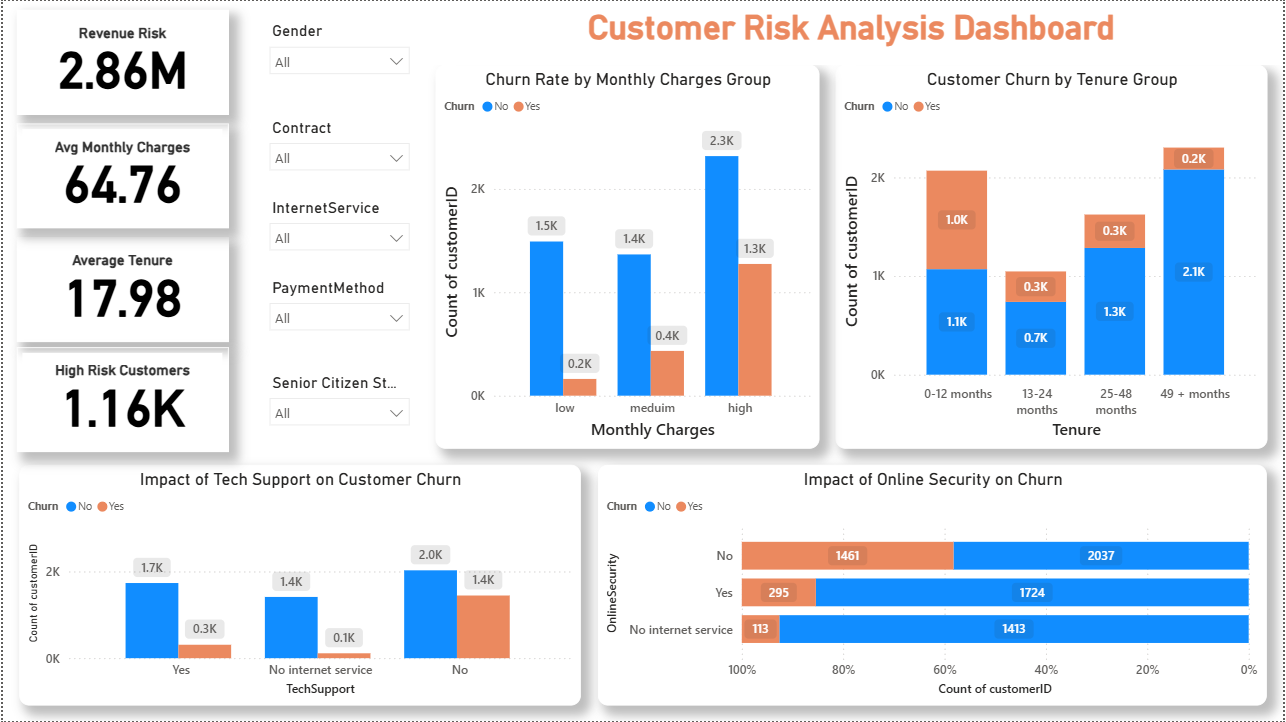

Layout of this report page (visuals, bound fields, positions):
{"tool":"powerbi","page":{"name":"customer risk analysis","canvas":[1280,720],"ordinal":1},"visuals":[{"type":"columnChart","title":"Customer Churn by Tenure Group","fields":{"Category":["Customer-Churn-data.tenure group"],"Series":["Customer-Churn-data.Churn"],"Y":["CountNonNull(Customer-Churn-data.customerID)"]},"box":[832,64,432,384],"z":0},{"type":"clusteredColumnChart","title":"Churn Rate by Monthly Charges Group","fields":{"Category":["Customer-Churn-data.monthly charge group"],"Series":["Customer-Churn-data.Churn"],"Y":["CountNonNull(Customer-Churn-data.customerID)"]},"box":[432,64,384,384],"z":1000},{"type":"clusteredColumnChart","title":"Impact of Tech Support on Customer Churn","fields":{"Category":["Customer-Churn-data.TechSupport"],"Series":["Customer-Churn-data.Churn"],"Y":["CountNonNull(Customer-Churn-data.customerID)"]},"box":[15.9,463.5,561.3,240.9],"z":2000},{"type":"hundredPercentStackedBarChart","title":"Impact of  Online Security on Churn","fields":{"Category":["Customer-Churn-data.OnlineSecurity"],"Y":["CountNonNull(Customer-Churn-data.customerID)"],"Series":["Customer-Churn-data.Churn"]},"box":[595.5,463.5,668.9,240.9],"z":3000},{"type":"cardVisual","fields":{"Data":["Customer-Churn-data.revenue at risk"]},"box":[13.6,8.6,212.3,104.9],"z":4000},{"type":"cardVisual","fields":{"Data":["Customer-Churn-data.Avg Tenure(churn customers)"]},"box":[13.6,235.8,212.3,104.9],"z":5000},{"type":"cardVisual","fields":{"Data":["Customer-Churn-data.average monthly charges"]},"box":[13.6,122.2,212.3,104.9],"z":6000},{"type":"cardVisual","fields":{"Data":["Customer-Churn-data.High Risk Customers"]},"box":[13.6,345.7,212.3,104.9],"z":7000},{"type":"textbox","box":[416,0,864,64],"z":8000},{"type":"slicer","fields":{"Values":["Customer-Churn-data.gender"]},"box":[256,16,160,64],"z":9000},{"type":"slicer","fields":{"Values":["Customer-Churn-data.PaymentMethod"]},"box":[256,272,160,64],"z":10000},{"type":"slicer","fields":{"Values":["Customer-Churn-data.InternetService"]},"box":[256,192,160,64],"z":11000},{"type":"slicer","fields":{"Values":["Customer-Churn-data.Contract"]},"box":[256,112,160,64],"z":12000},{"type":"slicer","fields":{"Values":["Customer-Churn-data.Senior Citizen Status"]},"box":[256,368,160,64],"z":13000}]}

Visuals, with their boxes in screenshot pixels (x1, y1, x2, y2), scaled from the page's 1280x720 canvas onto the 1286x722 screenshot:
"Customer Churn by Tenure Group" columnChart: region(836, 64, 1270, 449)
"Churn Rate by Monthly Charges Group" clusteredColumnChart: region(434, 64, 820, 449)
"Impact of Tech Support on Customer Churn" clusteredColumnChart: region(16, 465, 580, 706)
"Impact of  Online Security on Churn" hundredPercentStackedBarChart: region(598, 465, 1270, 706)
cardVisual - Customer-Churn-data.revenue at risk: region(14, 9, 227, 114)
cardVisual - Customer-Churn-data.Avg Tenure(churn customers): region(14, 236, 227, 342)
cardVisual - Customer-Churn-data.average monthly charges: region(14, 123, 227, 228)
cardVisual - Customer-Churn-data.High Risk Customers: region(14, 347, 227, 452)
textbox: region(418, 0, 1285, 64)
slicer - Customer-Churn-data.gender: region(257, 16, 418, 80)
slicer - Customer-Churn-data.PaymentMethod: region(257, 273, 418, 337)
slicer - Customer-Churn-data.InternetService: region(257, 193, 418, 257)
slicer - Customer-Churn-data.Contract: region(257, 112, 418, 176)
slicer - Customer-Churn-data.Senior Citizen Status: region(257, 369, 418, 433)
